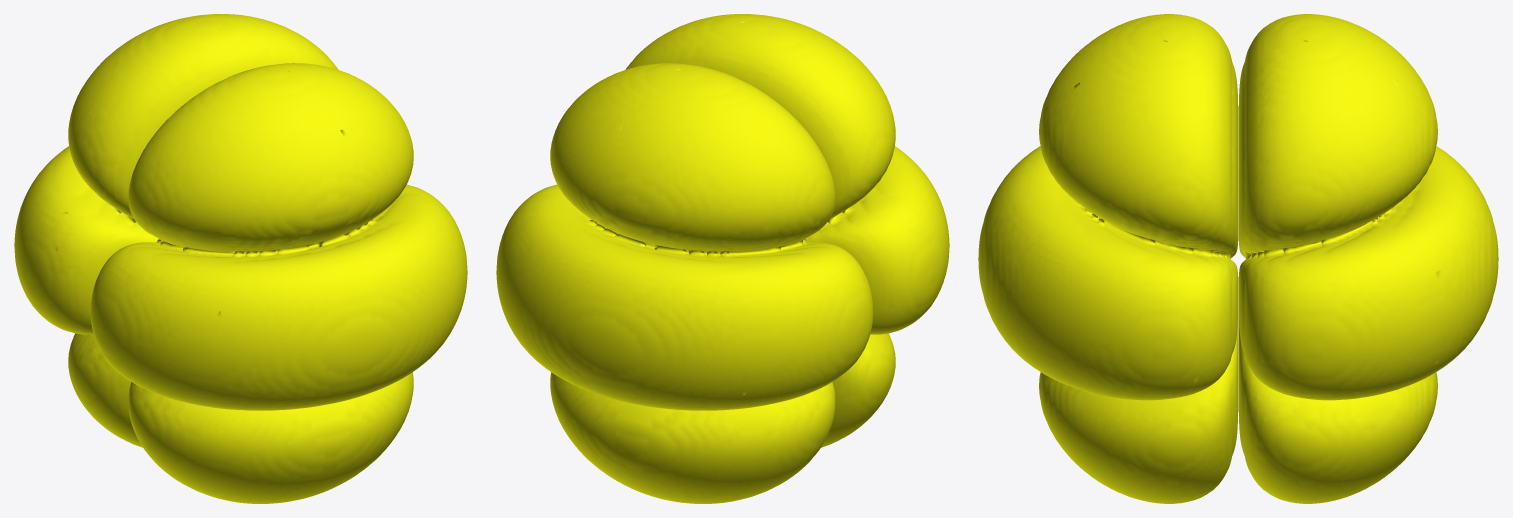
File: orb_n=6_ l=3 _m=-1.fbx
3 views of the same model, side by side, from view 1: azimuth 30°, elevation 25°; view 2: azimuth 150°, elevation 25°; view 3: azimuth 270°, elevation 25° (orthographic). The views are drawn at different scales.
Visible parts, largest first — view 1: orb_n=6_ l=3 _m=-1; view 2: orb_n=6_ l=3 _m=-1; view 3: orb_n=6_ l=3 _m=-1.
Part boxes in pixels (<box>): orb_n=6_ l=3 _m=-1: <box>14,14,467,503</box>; orb_n=6_ l=3 _m=-1: <box>496,14,949,503</box>; orb_n=6_ l=3 _m=-1: <box>978,14,1498,503</box>.
Bounding box in the file's own units: 16375 × 18805 × 19572.
